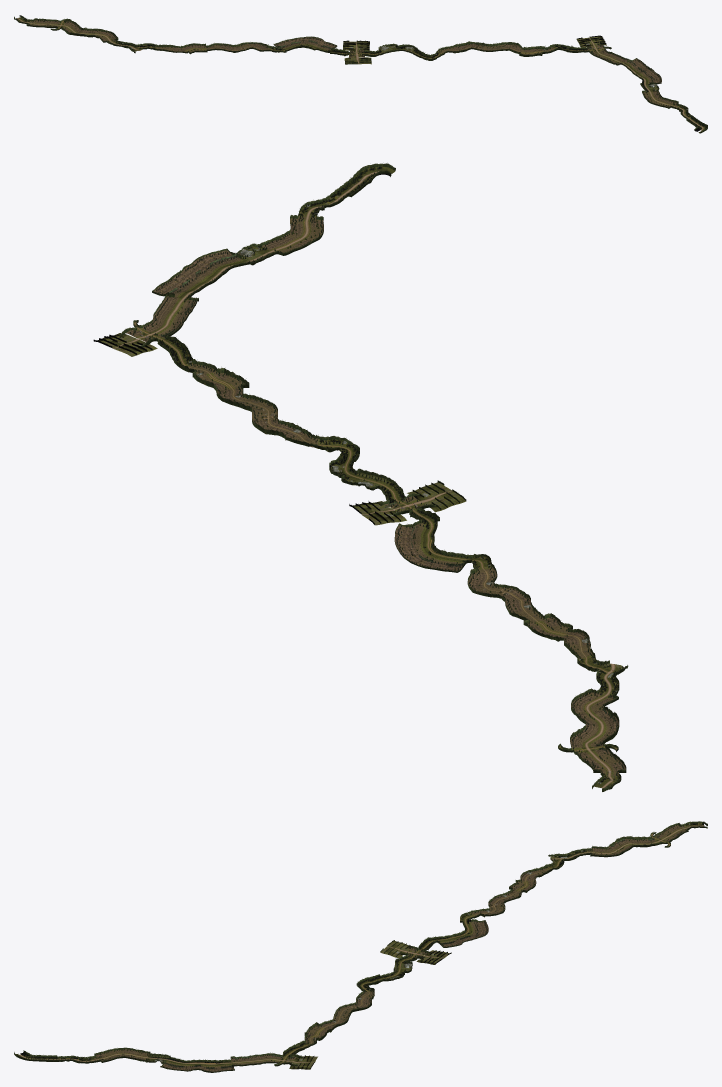
Rendered from russia_stage5_visual.glb.
3 views of the same model, one above another, from view 1: azimuth 30°, elevation 25°; view 2: azimuth 150°, elevation 25°; view 3: azimuth 270°, elevation 25° (orthographic). The views are drawn at different scales.
Visible parts, largest first — view 1: Track_Road_And_Terrain, Foliage_And_Vegetation; view 2: Track_Road_And_Terrain, Foliage_And_Vegetation; view 3: Track_Road_And_Terrain, Foliage_And_Vegetation.
Boxes of the visible parts, x1,y1,x2,y2 form: Track_Road_And_Terrain: (14,15,707,133); Foliage_And_Vegetation: (16,17,707,129); Track_Road_And_Terrain: (98,163,628,791); Foliage_And_Vegetation: (93,166,624,786); Track_Road_And_Terrain: (14,821,707,1072); Foliage_And_Vegetation: (23,823,702,1071).
Size of the model in its own units: 3206 by 51.75 by 3788.
Materials: 79 (79 with a texture image).
